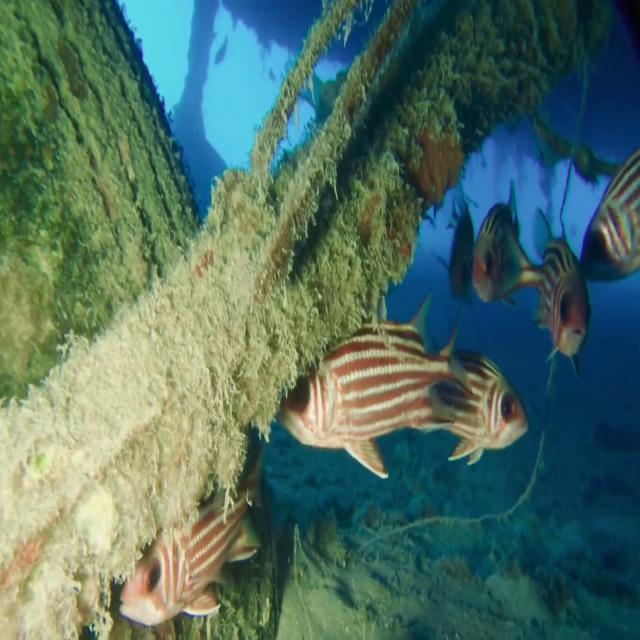Asker Baligi: (276, 291, 528, 480), (117, 481, 261, 628)
